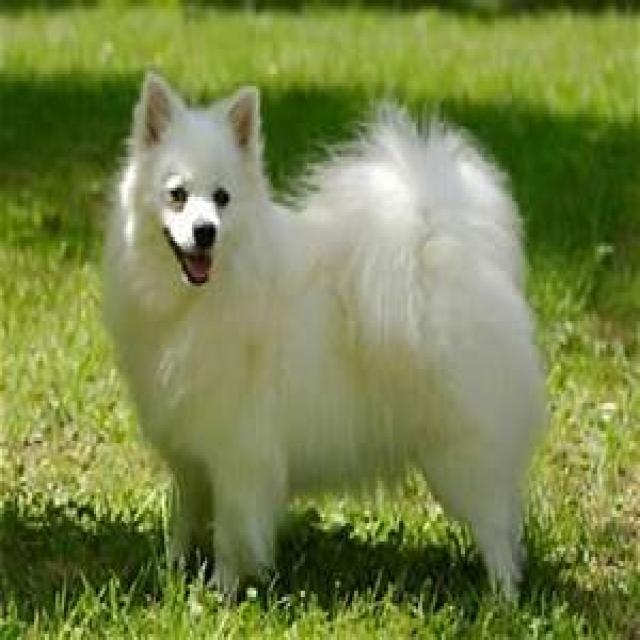KOPEK: (109, 67, 537, 600)
